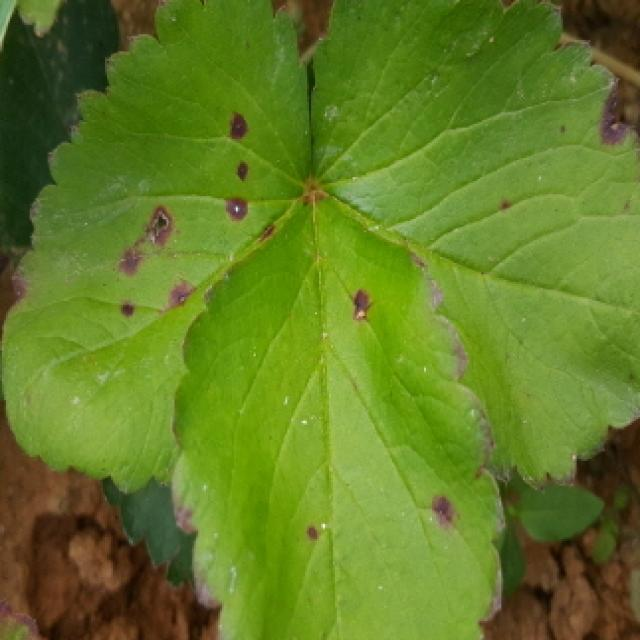Leaf Spot: (307, 0, 640, 490), (0, 0, 310, 493), (171, 188, 507, 640)
